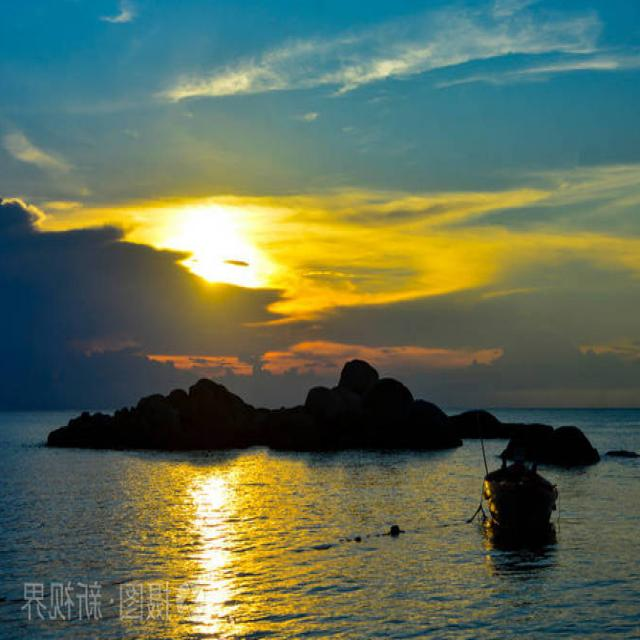island: (31, 350, 602, 473)
